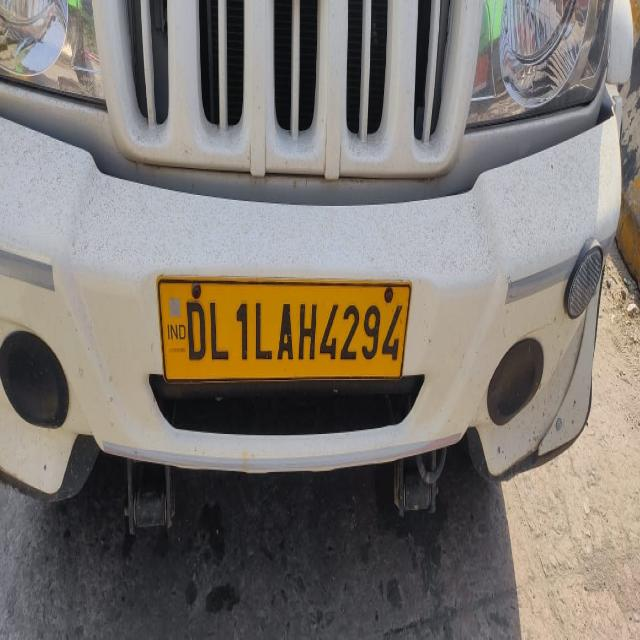License-plate: (164, 268, 408, 382)
